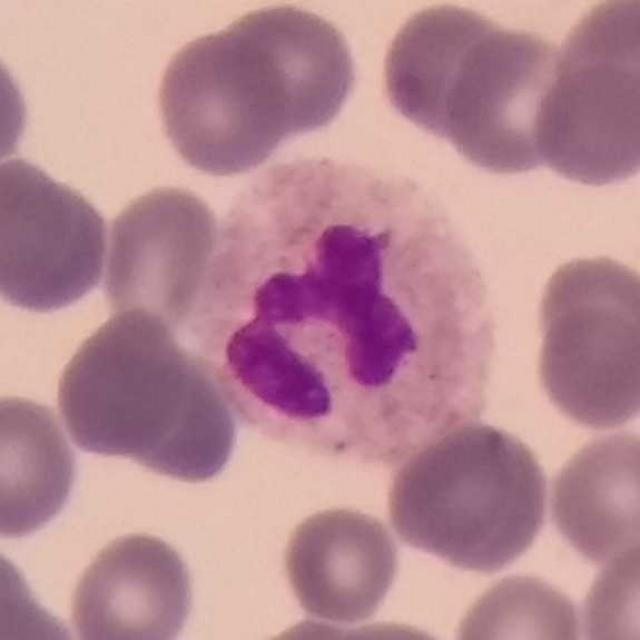Neutrophil: (190, 158, 500, 467)
RBC: (382, 416, 555, 574), (440, 22, 584, 179), (149, 25, 293, 179), (372, 0, 527, 142), (49, 304, 188, 462), (209, 0, 362, 142), (0, 153, 116, 320), (97, 179, 221, 334), (277, 499, 403, 626), (65, 525, 202, 640), (106, 364, 235, 486), (528, 57, 640, 192), (530, 247, 640, 384), (530, 301, 640, 435), (543, 0, 640, 148), (543, 423, 640, 571), (0, 388, 82, 543), (448, 567, 587, 640), (0, 537, 76, 640), (576, 533, 640, 640), (0, 35, 35, 186), (274, 615, 434, 640)
